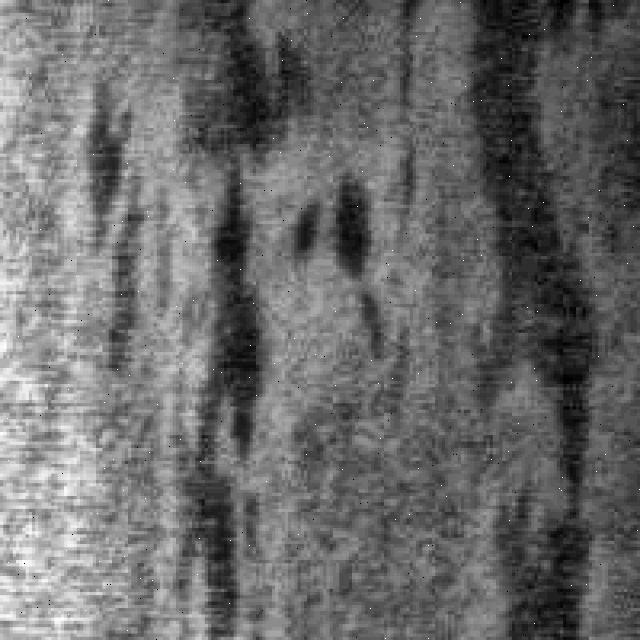Patches: (458, 4, 602, 598), (150, 9, 298, 576), (74, 61, 140, 327), (314, 164, 394, 348)
